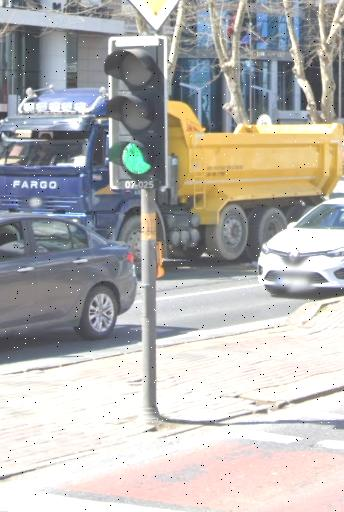greenlight: (105, 37, 166, 190)
